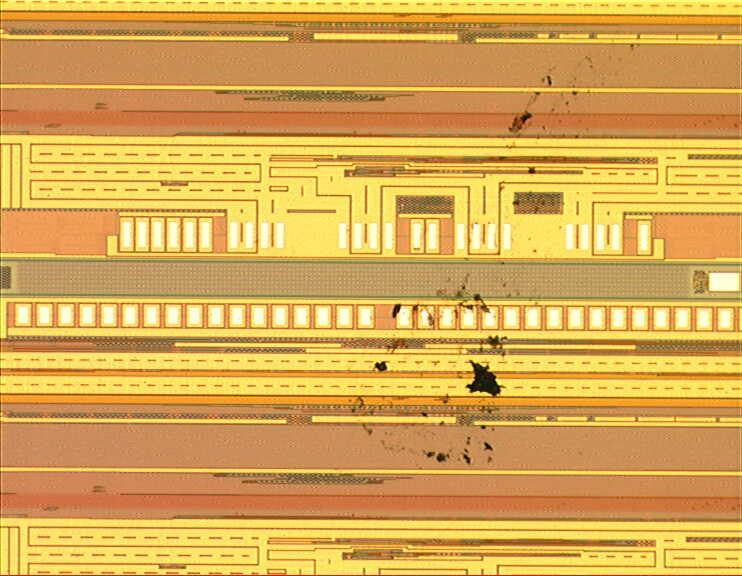PO CONTAMINATION: (347, 29, 650, 473)
